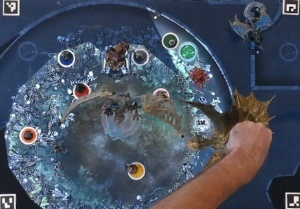blue: (56, 49, 77, 69)
green: (159, 31, 179, 51)
orange: (18, 122, 40, 147)
pink: (150, 85, 170, 106)
red: (69, 80, 90, 100)
violet: (130, 46, 150, 66)
yellow: (125, 160, 145, 181)
